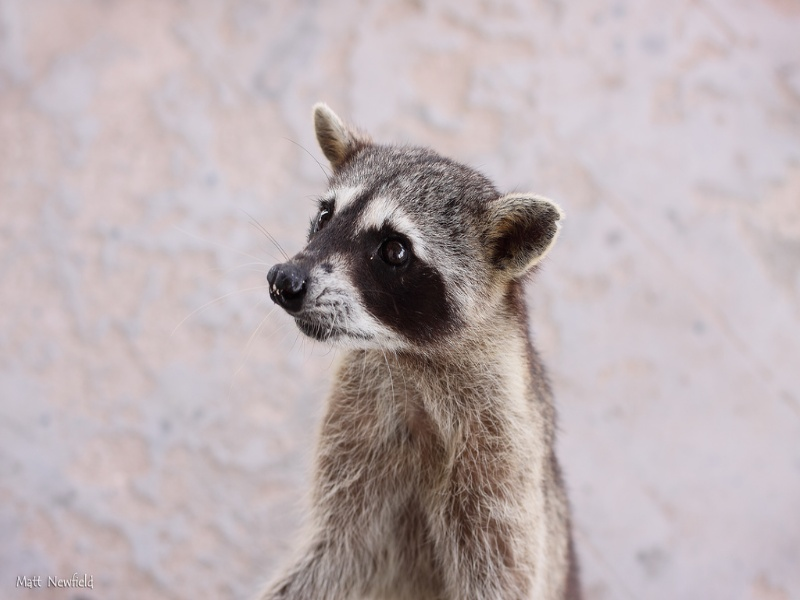raccoon: (240, 102, 590, 597)
